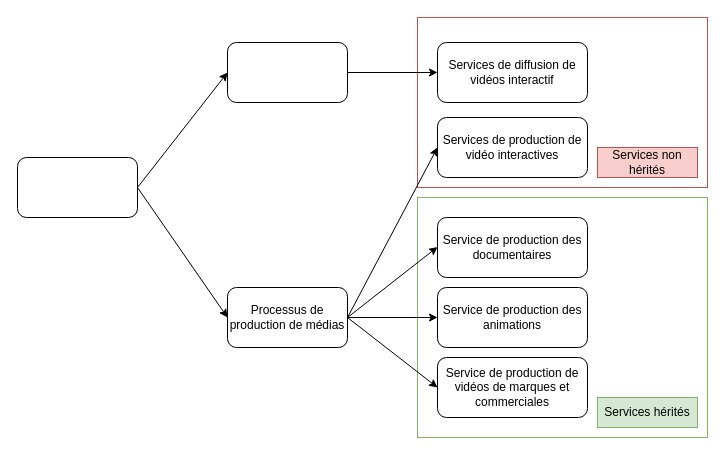
Some shapes in this 725 by 455 pixel diagram are drawn without their labels. The shapes that lost their labels are listed below. From the top down, each one's box as (x1, y1, x2, y2) in pixels, then its label:
(226, 42, 348, 102): Processus de diffusion de médias
(16, 156, 138, 218): Gibberish
